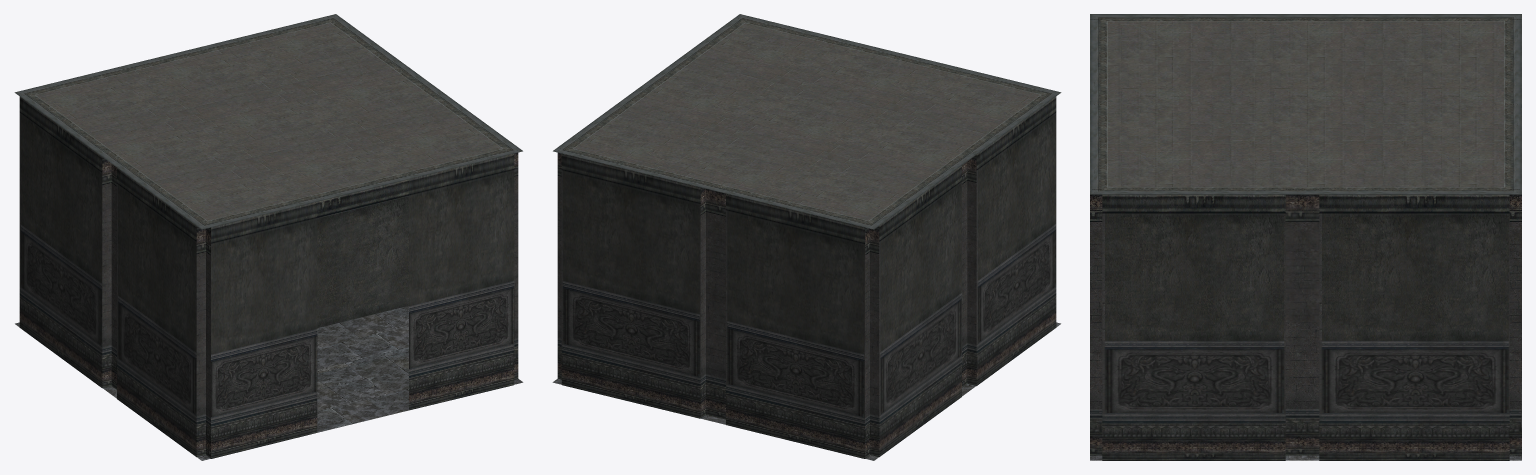
The model's file is StartRoom.fbx.
The picture shows the model from 3 angles, left to right: view 1: azimuth 30°, elevation 25°; view 2: azimuth 150°, elevation 25°; view 3: azimuth 270°, elevation 25°; orthographic projection. The views are drawn at different scales.
Parts seen in each view (by area): view 1: StartRoom; view 2: StartRoom; view 3: StartRoom.
Part boxes in pixels (<box>): StartRoom: <box>14,14,523,460</box>; StartRoom: <box>552,14,1061,460</box>; StartRoom: <box>1090,14,1521,460</box>.
Bounding box in the file's own units: 3352 × 2310 × 3386.
Materials: 4 (4 with a texture image).
